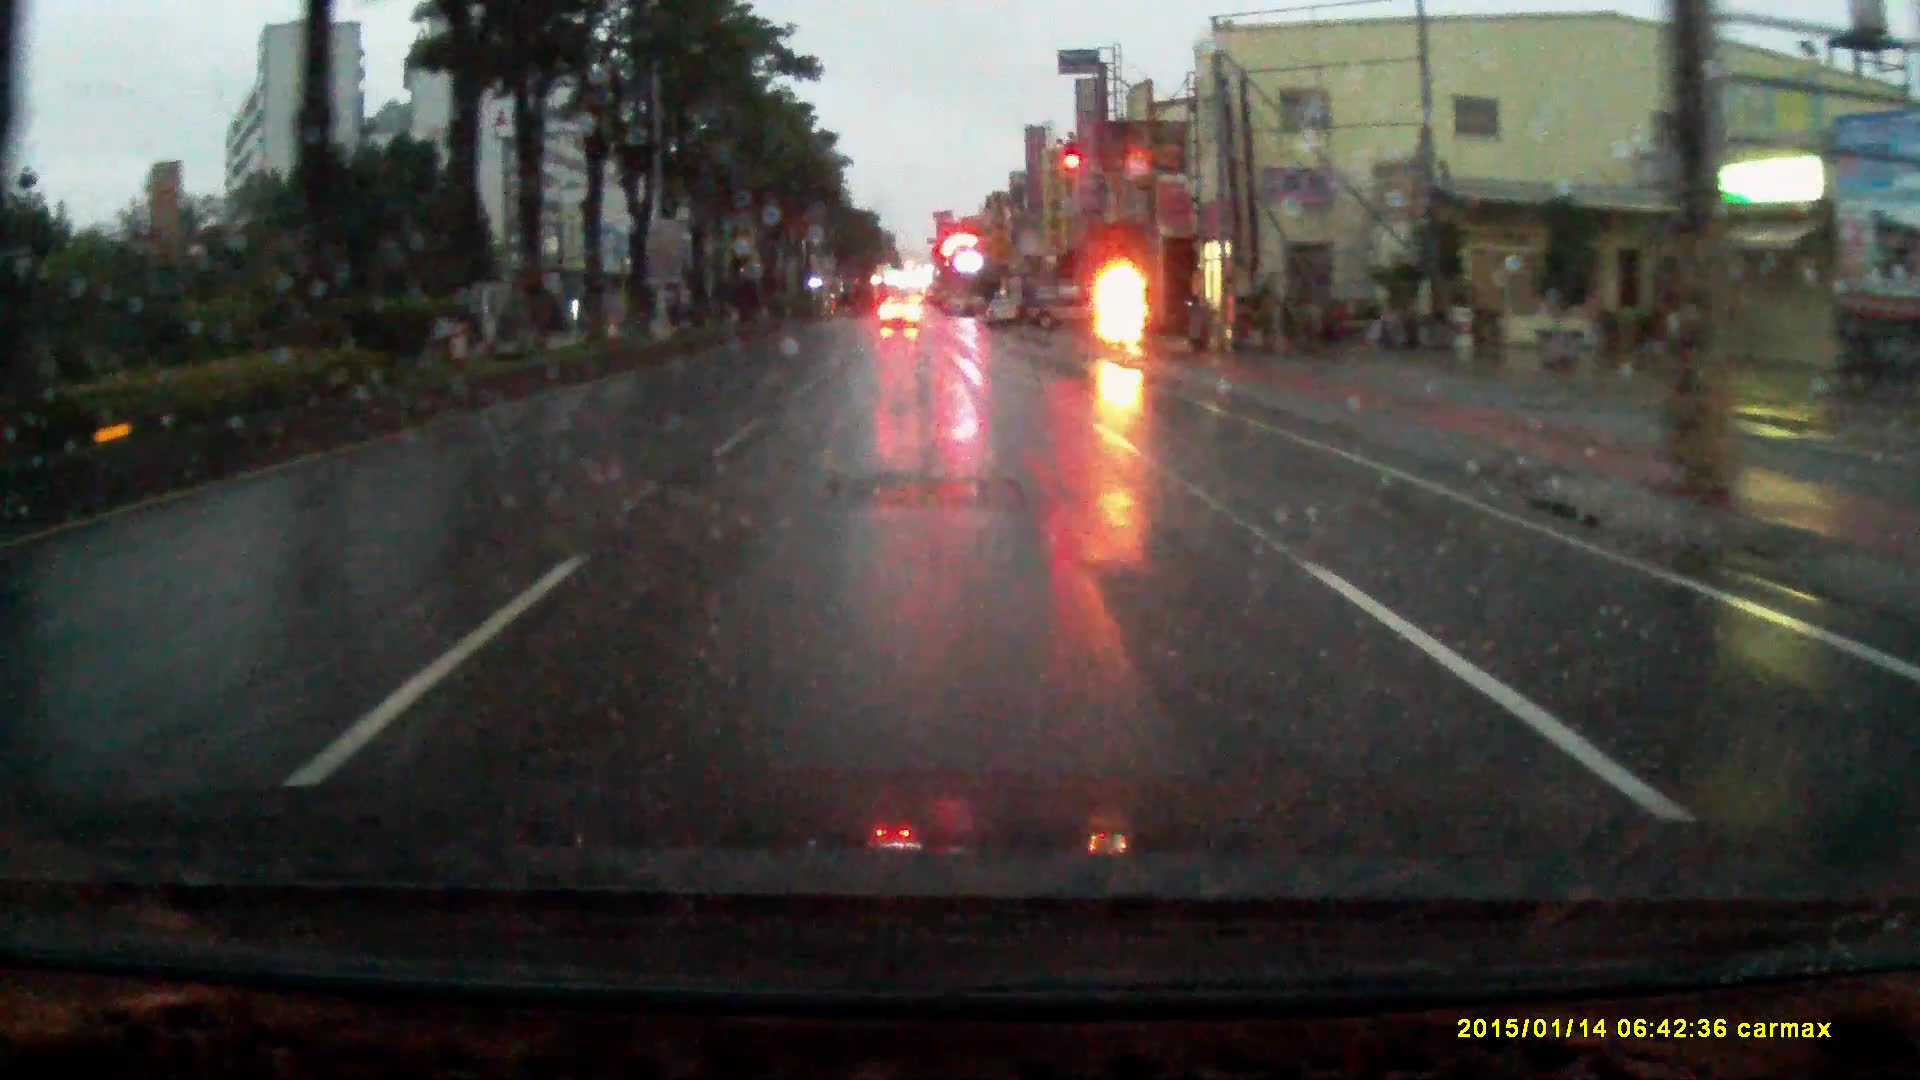vehicle: (1029, 274, 1112, 324), (880, 291, 926, 328)
